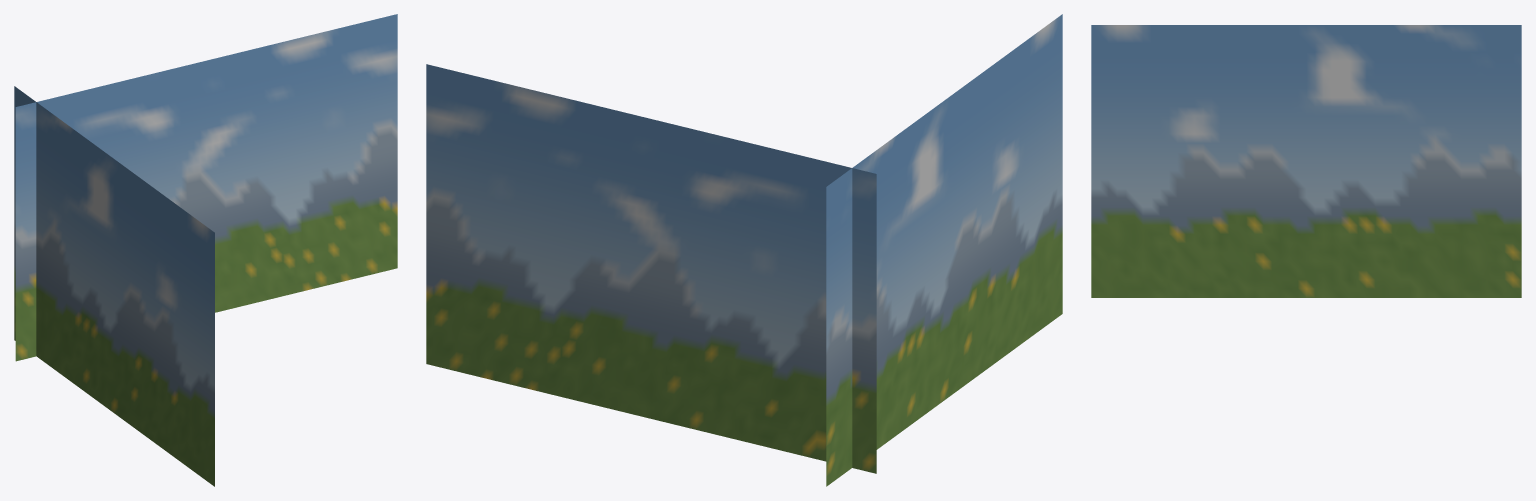
The model's file is Hut_View.fbx.
3 renders of one model, left to right at view 1: azimuth 30°, elevation 25°; view 2: azimuth 150°, elevation 25°; view 3: azimuth 270°, elevation 25°, orthographic. The views are drawn at different scales.
Parts seen in each view (by area): view 1: Hut_View; view 2: Hut_View; view 3: Hut_View.
Part boxes in pixels (left/top/right/bottom): Hut_View: left=14, top=14, right=397, bottom=486; Hut_View: left=426, top=14, right=1062, bottom=486; Hut_View: left=1091, top=25, right=1521, bottom=297.
Bounding box in the file's own units: 220 × 140 × 200.
